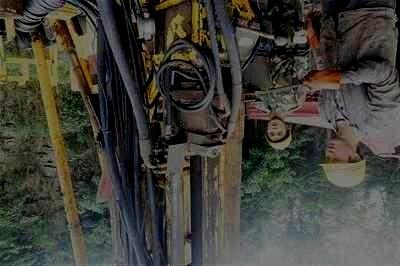helmet: (317, 138, 367, 188), (263, 119, 292, 151)
